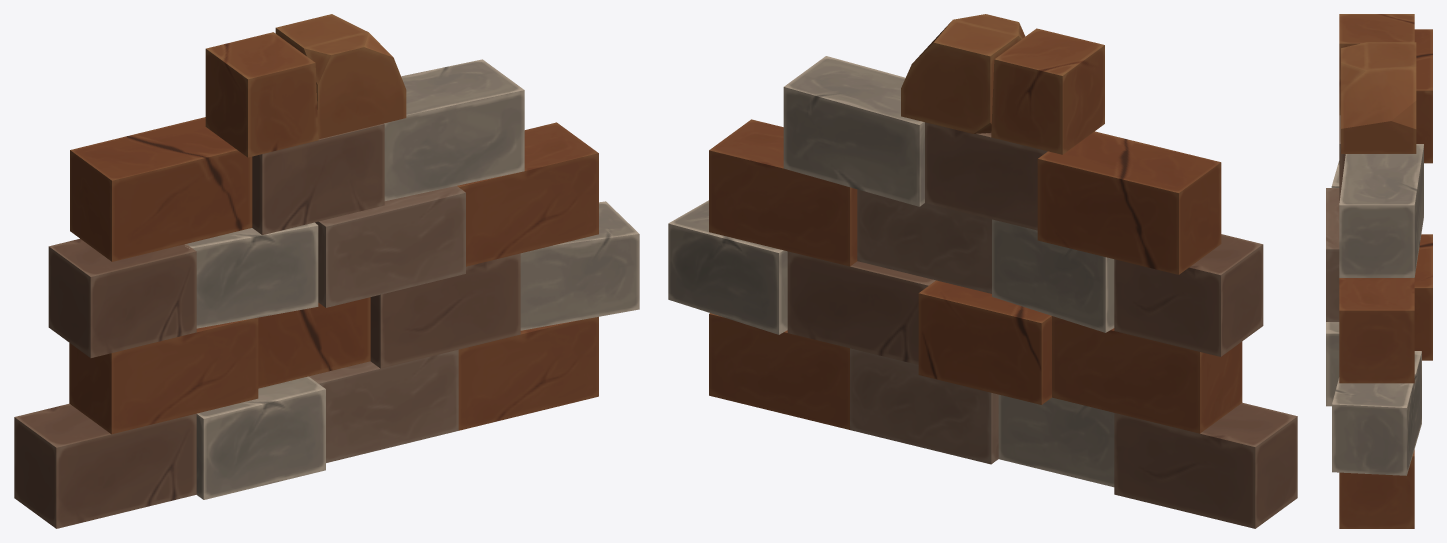
File: Camp1_Brick1.fbx
3 renders of one model, left to right at view 1: azimuth 30°, elevation 25°; view 2: azimuth 150°, elevation 25°; view 3: azimuth 270°, elevation 25°, orthographic. The views are drawn at different scales.
Parts seen in each view (by area): view 1: polySurface1466; view 2: polySurface1466; view 3: polySurface1466.
Boxes of the visible parts, left/top/right/bottom form: polySurface1466: left=14, top=14, right=639, bottom=528; polySurface1466: left=668, top=14, right=1297, bottom=528; polySurface1466: left=1326, top=14, right=1432, bottom=528.
Size of the model in its own units: 183 by 121 by 32.05.
1 material, 1 textured.
